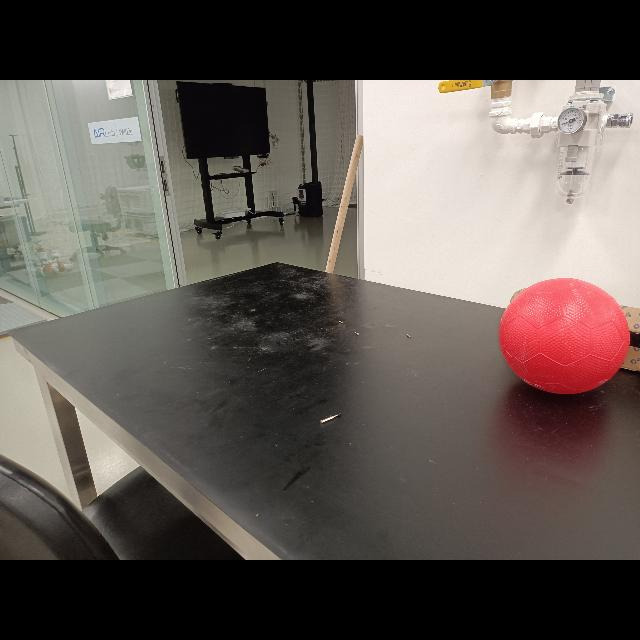R: (498, 278, 630, 394)
